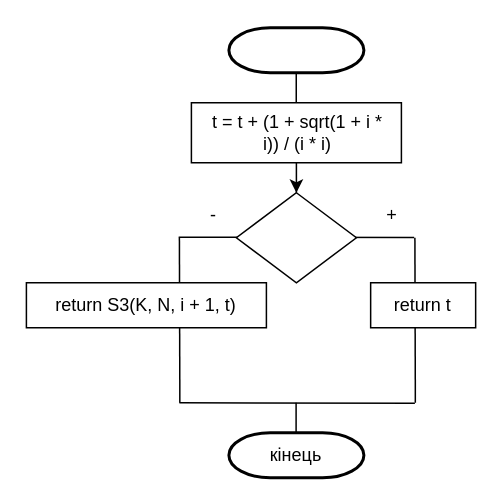
Some shapes in this 503 by 504 pixel diagram are drawn without their labels. The shapes that lost their labels are listed below. From the top down, each one's box as (x1, y1, x2, y2) in pixels, then its label:
(227, 26, 365, 74): початок
(235, 191, 356, 283): i >= N
